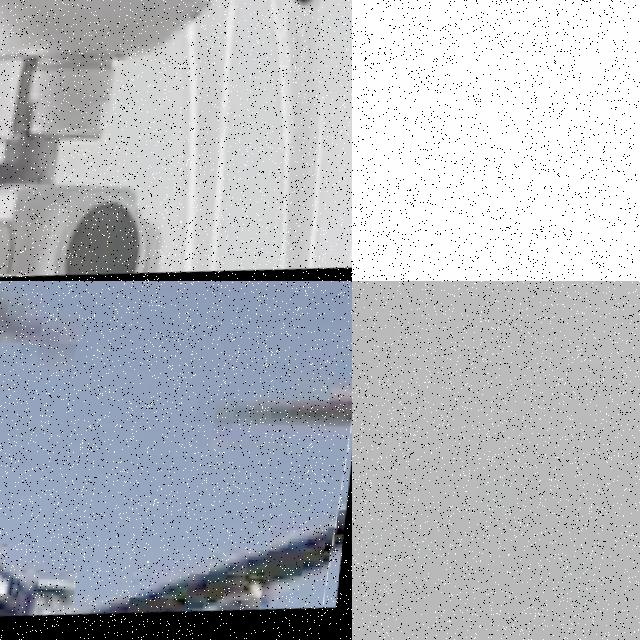drone: (0, 281, 352, 640), (0, 0, 352, 281)
